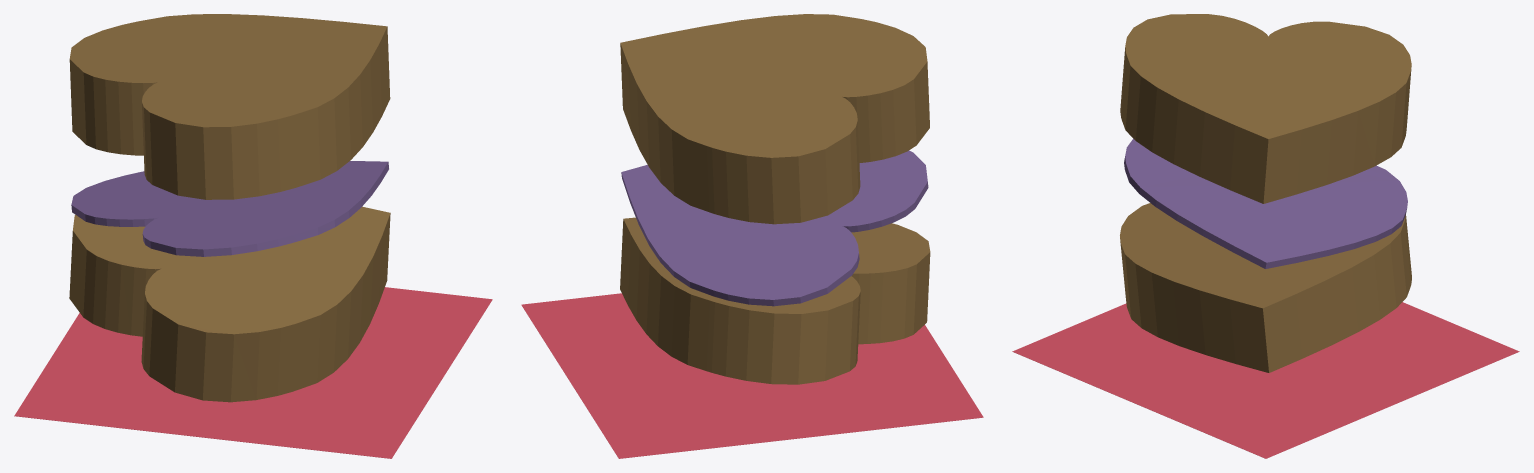
The model's file is CUC.glb.
3 views of the same model, side by side, from view 1: azimuth 30°, elevation 25°; view 2: azimuth 150°, elevation 25°; view 3: azimuth 270°, elevation 25° (orthographic). The views are drawn at different scales.
Parts seen in each view (by area): view 1: Mesh_Mesh_head_geo.001_lambert2SG.001; view 2: Mesh_Mesh_head_geo.001_lambert2SG.001; view 3: Mesh_Mesh_head_geo.001_lambert2SG.001.
Boxes of the visible parts, x1=… form: Mesh_Mesh_head_geo.001_lambert2SG.001: x1=14, y1=14, x2=492, y2=458; Mesh_Mesh_head_geo.001_lambert2SG.001: x1=521, y1=14, x2=983, y2=458; Mesh_Mesh_head_geo.001_lambert2SG.001: x1=1012, y1=14, x2=1519, y2=458.
Bounding box in the file's own units: 0.0354 × 0.0217 × 0.0354.
